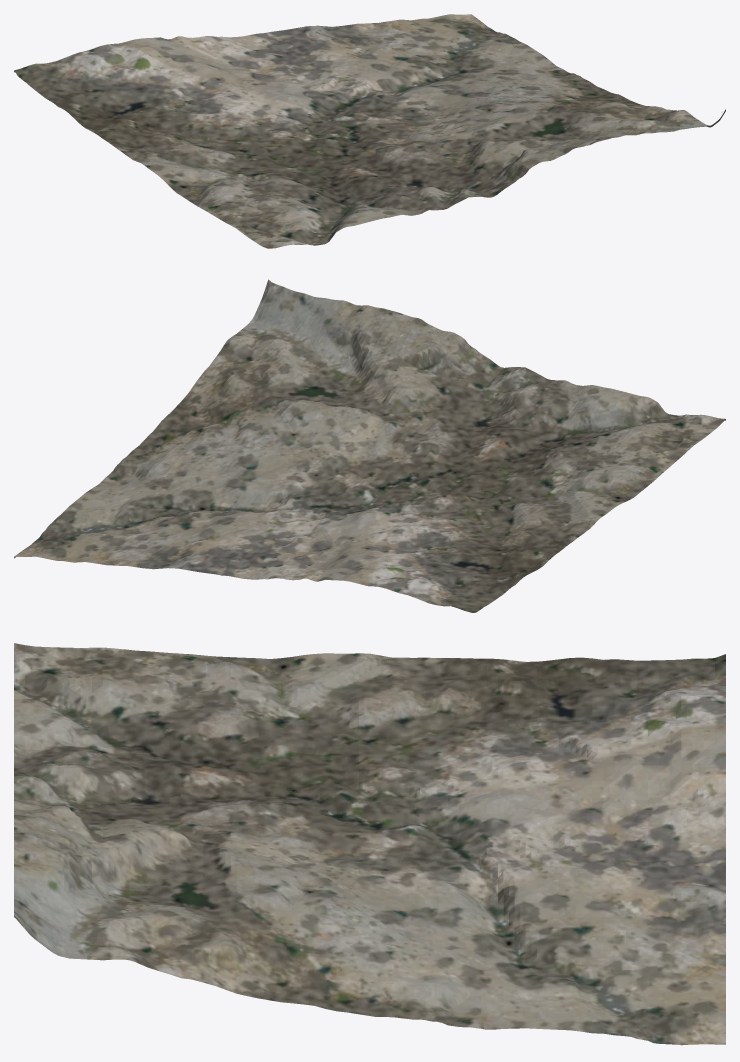
The picture shows the model from 3 angles, top to bottom: view 1: azimuth 30°, elevation 25°; view 2: azimuth 150°, elevation 25°; view 3: azimuth 270°, elevation 25°; orthographic projection. The views are drawn at different scales.
Bounding box in the file's own units: 250 × 49.01 × 241.
1 material, 1 textured.
